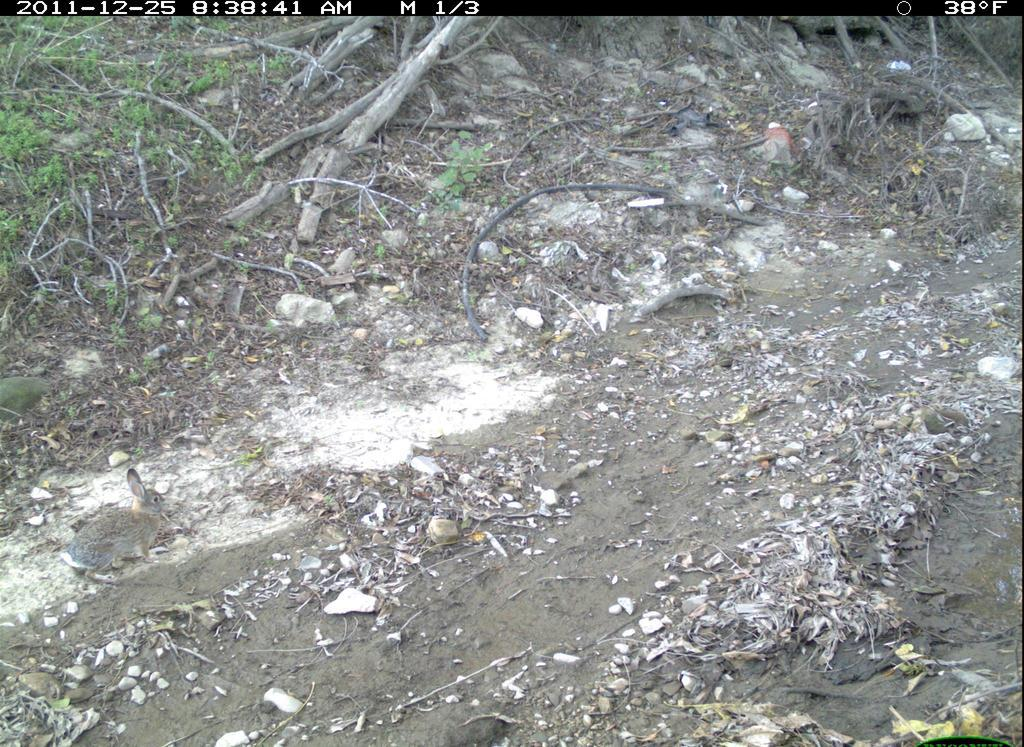rabbit: (65, 451, 190, 591)
